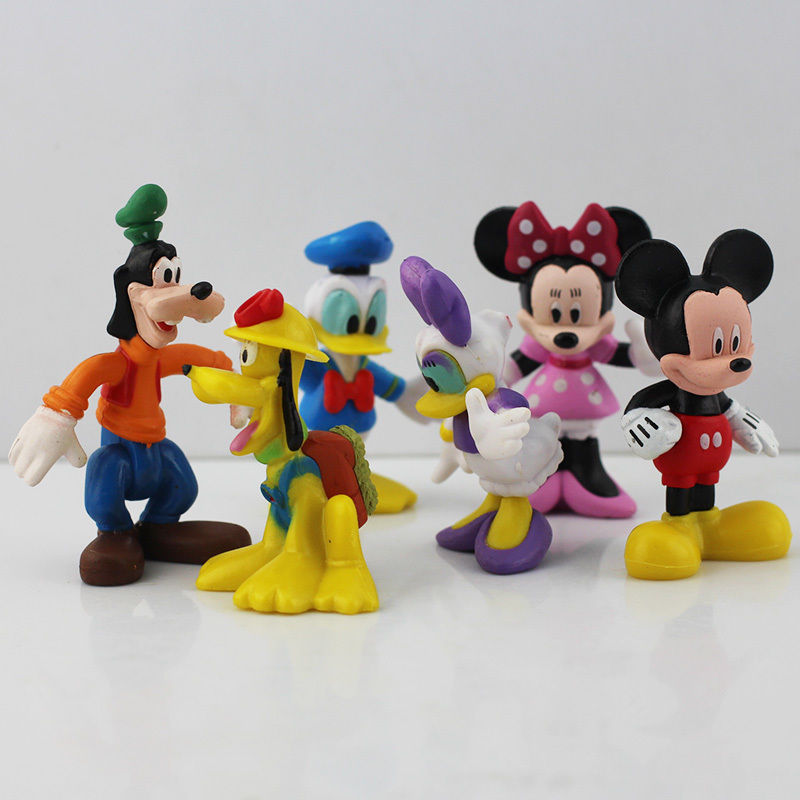Mickey: (614, 227, 781, 395)
